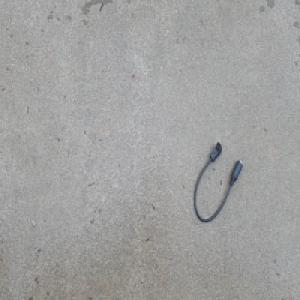Wire: (193, 140, 243, 223)
